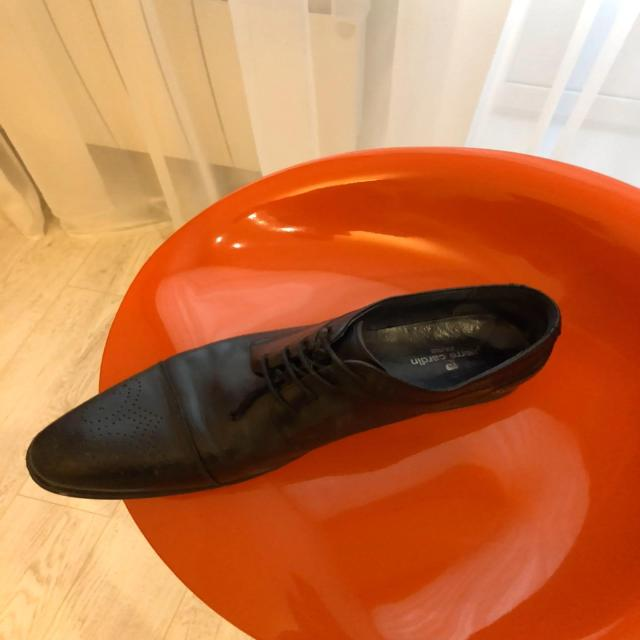shoe: (23, 284, 564, 504)
